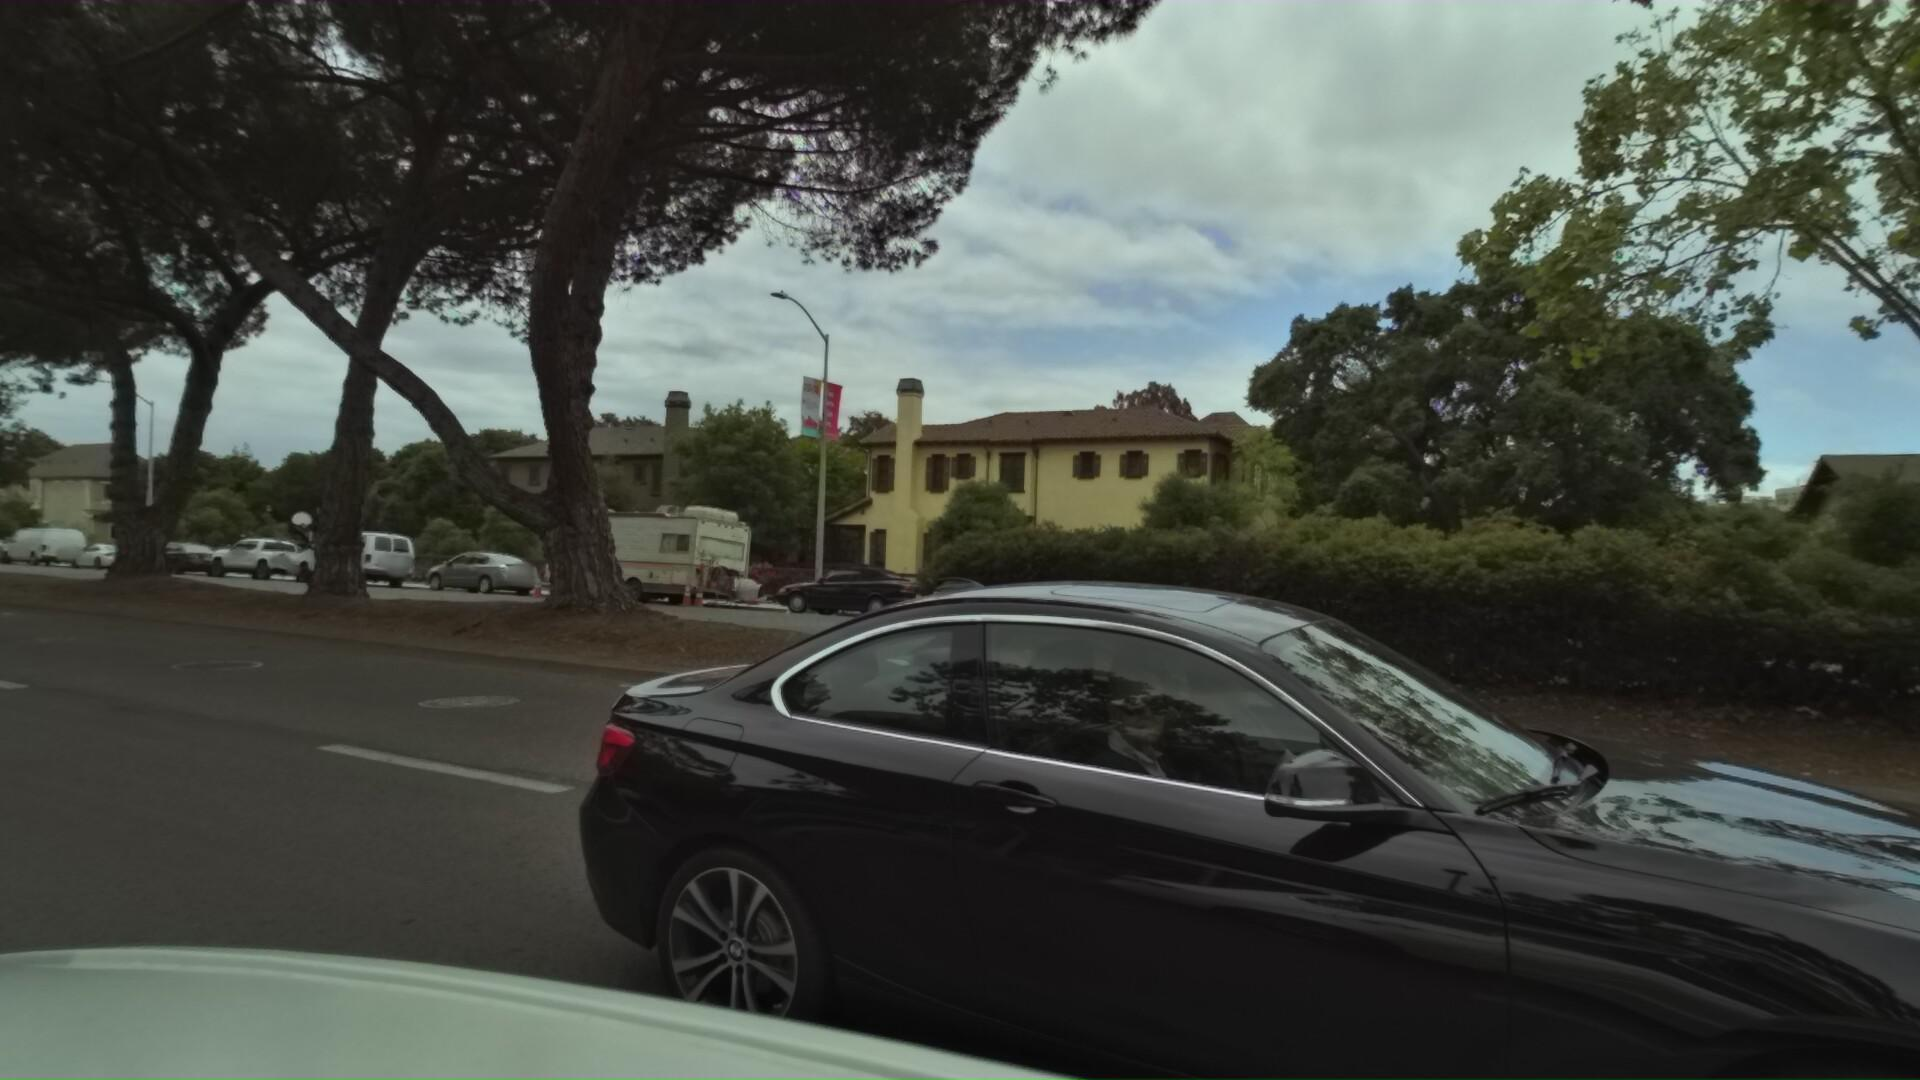car: (537, 454, 1920, 1080), (744, 560, 920, 622), (280, 526, 417, 589), (194, 531, 326, 585), (404, 543, 539, 595), (0, 521, 95, 568), (125, 537, 227, 578), (59, 539, 150, 574), (0, 531, 18, 566)
other_vehicle: (521, 498, 778, 611)
